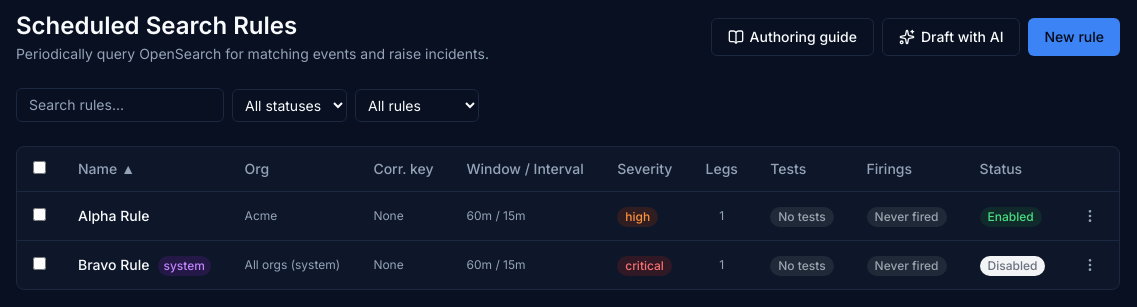
Test: SearchRulesAdmin — list affordances › filters by enabled/disabled status
Expected: the button "Alpha Rule" is shown, x1=78 y1=206 x2=150 y2=226
Select "Disabled" in the dropdown named "Status filter": (290, 105) x1=232 y1=88 x2=347 y2=122
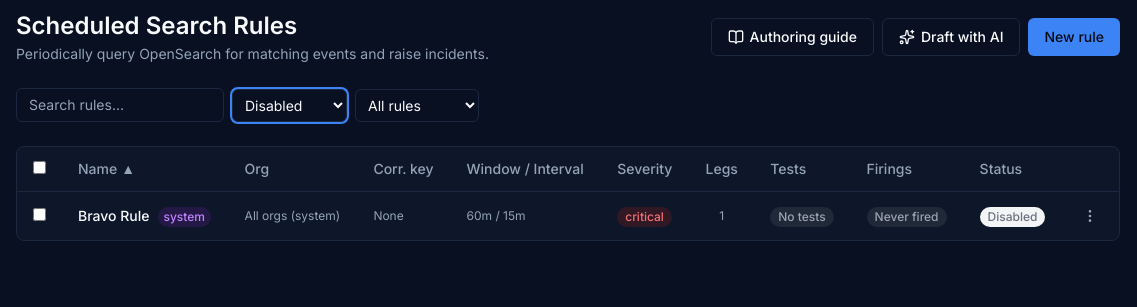
Expected: the button "Bravo Rule" is shown, x1=78 y1=206 x2=150 y2=226
Expected: the button "Alpha Rule" is gone
